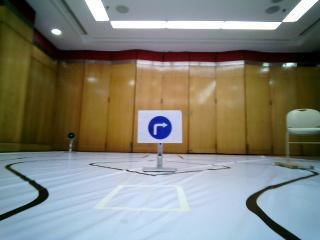right: (132, 106, 184, 145)
